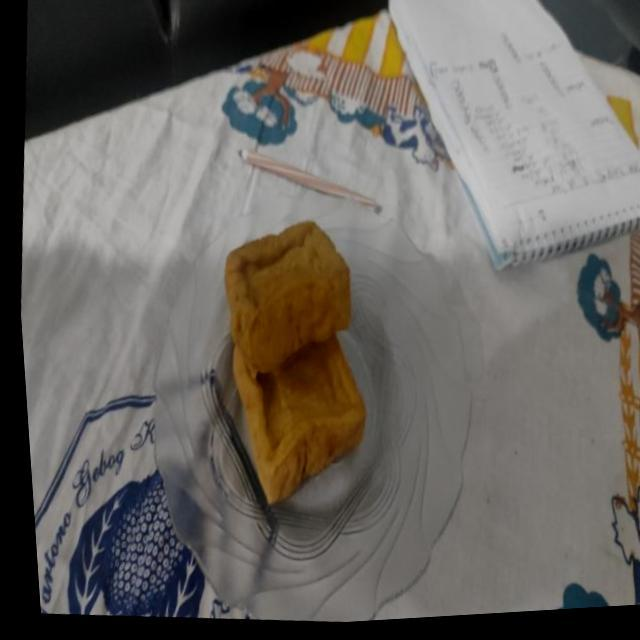tahu_goreng: (232, 334, 366, 503), (224, 220, 351, 378)
